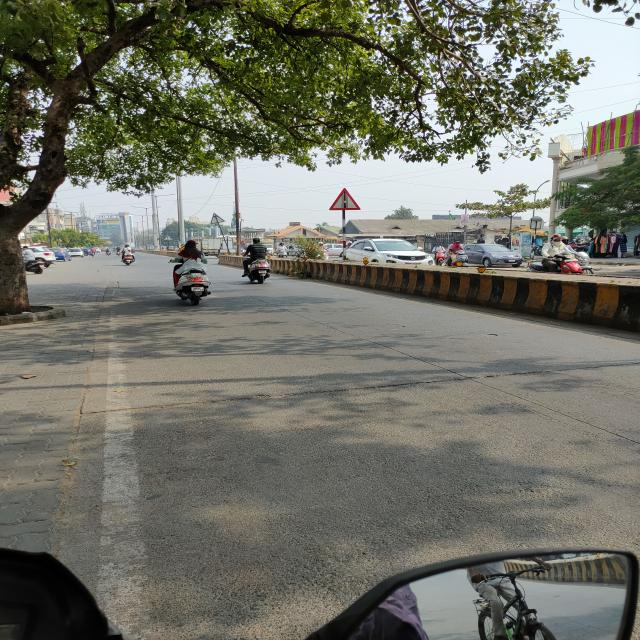ferry: (329, 188, 361, 210)
